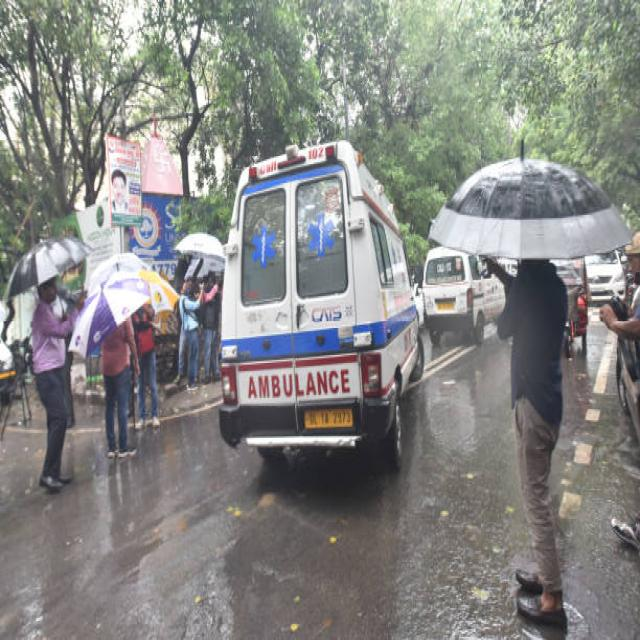ambulance: (234, 126, 341, 338), (230, 356, 353, 430)
